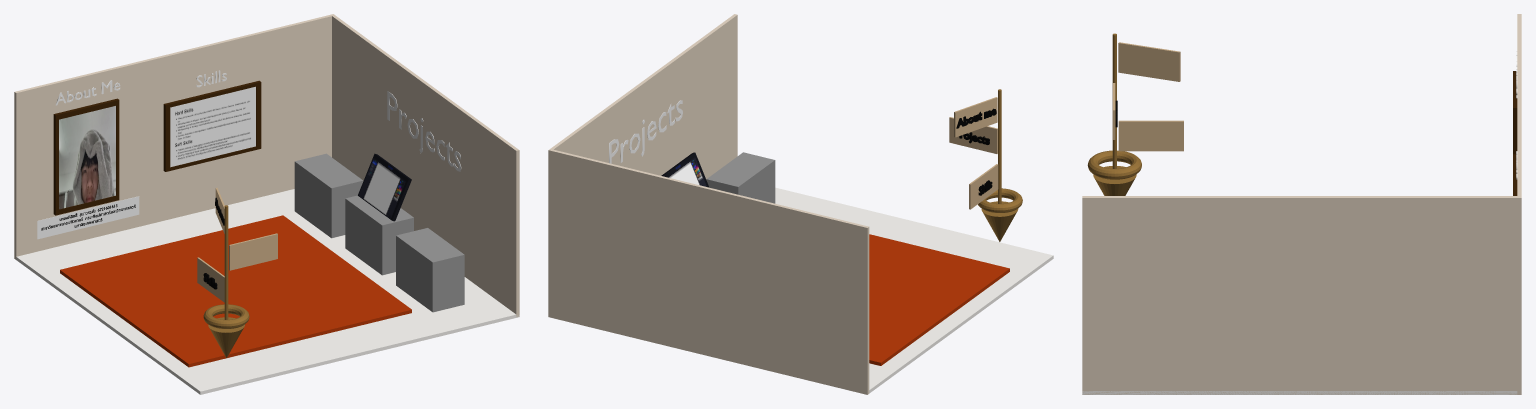
The model's file is padtaiPortfolio.glb.
3 views of the same model, side by side, from view 1: azimuth 30°, elevation 25°; view 2: azimuth 150°, elevation 25°; view 3: azimuth 270°, elevation 25° (orthographic). The views are drawn at different scales.
Parts seen in each view (by area): view 1: Plane.002, Plane.001, Plane.008, Plane, SkillsEnd, AboutmeEnd, Plane.006, Plane.005, Plane.007, ProjectsEnd, Plane.013, Plane.004 (+8 smaller); view 2: Plane.002, Plane.001, Plane.008, Plane, Plane.006, Plane.017, Text.003, ProjectsEnd, Plane.016, Plane.009, Torus, Cone (+1 smaller); view 3: Plane.001, Plane.009, Plane.017, Plane.002, Plane, Torus, Cone, Cylinder, Plane.003.
Part boxes in pixels (box(x1,y1,x2,y2)): Plane.002: box(14, 14, 334, 259); Plane.001: box(332, 15, 519, 317); Plane.008: box(60, 215, 411, 367); Plane: box(16, 189, 519, 394); SkillsEnd: box(170, 86, 255, 167); AboutmeEnd: box(59, 106, 115, 209); Plane.006: box(396, 228, 464, 312); Plane.005: box(294, 153, 363, 238); Plane.007: box(345, 195, 413, 275); ProjectsEnd: box(358, 153, 411, 221); Plane.013: box(37, 196, 139, 239); Plane.004: box(163, 80, 261, 171); Plane.002: box(548, 149, 869, 394); Plane.001: box(550, 14, 737, 179); Plane.008: box(869, 234, 1009, 365); Plane: box(775, 187, 1053, 393); Plane.006: box(706, 152, 775, 203); Plane.017: box(954, 97, 997, 137); Text.003: box(609, 100, 682, 163); ProjectsEnd: box(661, 152, 709, 187); Plane.016: box(949, 117, 997, 153); Plane.009: box(969, 164, 998, 209); Torus: box(978, 188, 1022, 212); Cone: box(981, 201, 1018, 241); Plane.001: box(1082, 196, 1517, 394); Plane.009: box(1118, 120, 1183, 151); Plane.017: box(1118, 42, 1180, 81); Plane.002: box(1517, 14, 1521, 394); Plane: box(1082, 391, 1517, 394); Torus: box(1087, 150, 1141, 179); Cone: box(1093, 166, 1136, 195); Cylinder: box(1112, 33, 1116, 168); Plane.003: box(1513, 71, 1517, 154).
Bounding box in the file's own units: 20 × 10.13 × 20.2.
Materials: 27 (3 with a texture image).
